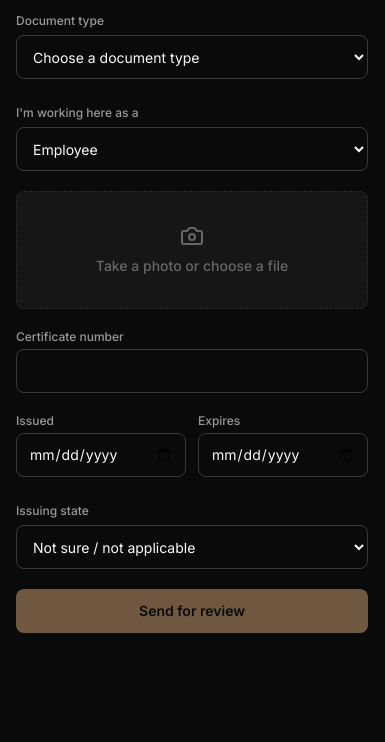
DocumentUploadForm › typing a near-duplicate of a canonical type under Other is refused, not silently submitted
Step 1. Select "Other" in the dropdown labelled "Document type" → (192, 57), box [16,35,368,79]
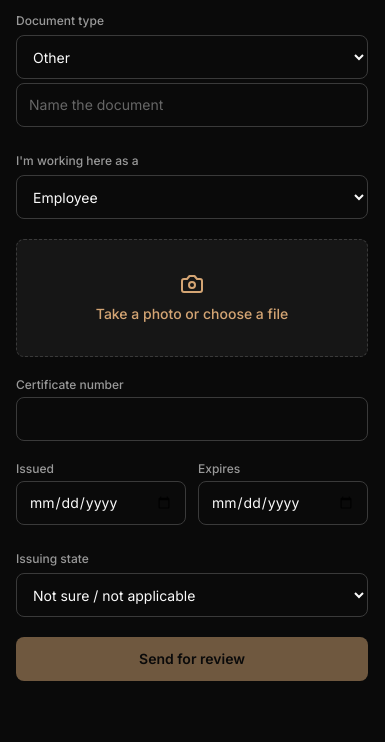
Step 2. Type "R.S.A" into the field with placeholder "Name the document" → (192, 105), box [16,83,368,127]
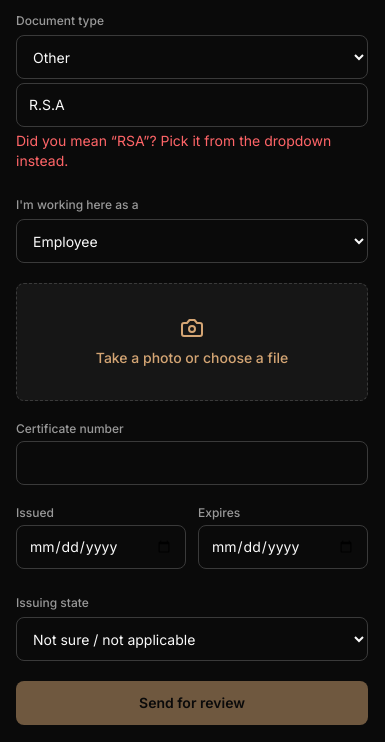
Check: the button "Send for review" is disabled, box [16,681,368,725]
Check: the text "Did you mean “RSA”? Pick it from the dropdown instead." is shown, box [16,131,368,171]
